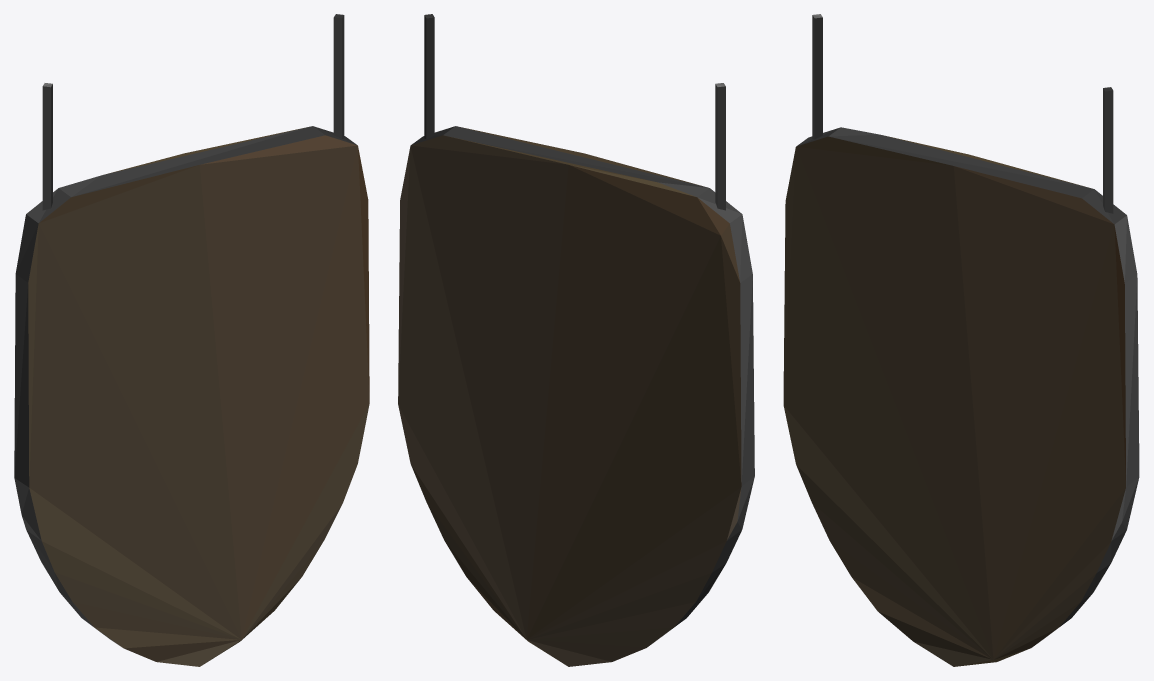
The model's file is Sign-HangingI.fbx.
3 views of the same model, side by side, from view 1: azimuth 30°, elevation 25°; view 2: azimuth 150°, elevation 25°; view 3: azimuth 330°, elevation 25° (orthographic).
Visible parts, largest first — view 1: Sign-HangingI; view 2: Sign-HangingI; view 3: Sign-HangingI.
Part boxes in pixels (x1,y1,x2,y2): Sign-HangingI: (14, 14, 369, 666); Sign-HangingI: (398, 14, 754, 666); Sign-HangingI: (783, 14, 1139, 666).
Bounding box in the file's own units: 97.67 × 167 × 8.76.
